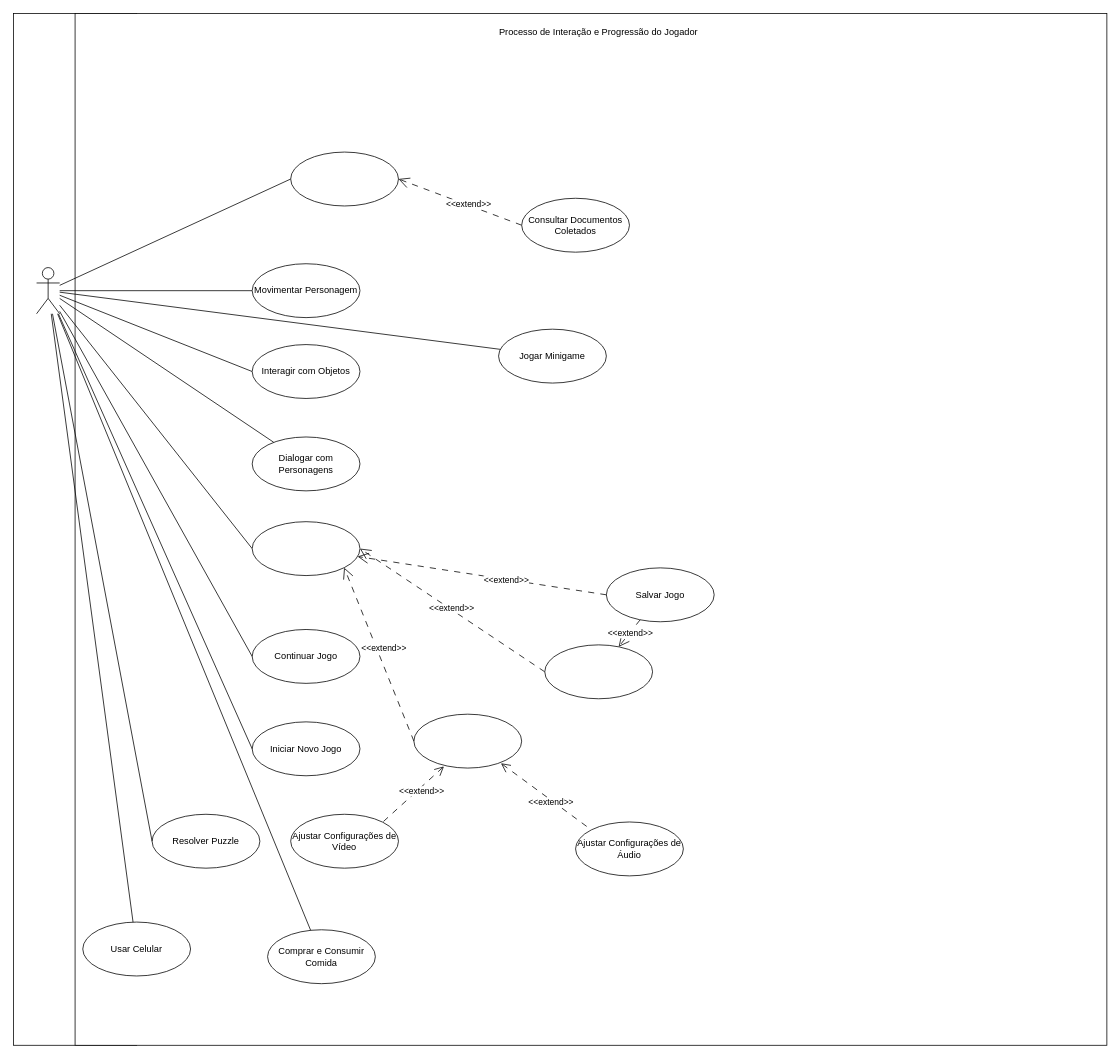
The diagram is 1120 pixels wide and 1059 high, and some of its shapes have lost their labels. Each missing label, with the box of its shape:
Acessar Diário de Memórias: (290, 151, 398, 206)
Configurar Jogo: (413, 713, 522, 768)
Jogador: (36, 267, 60, 314)
Pausar Jogo: (251, 521, 360, 576)
Sair do Jogo: (544, 644, 653, 699)
